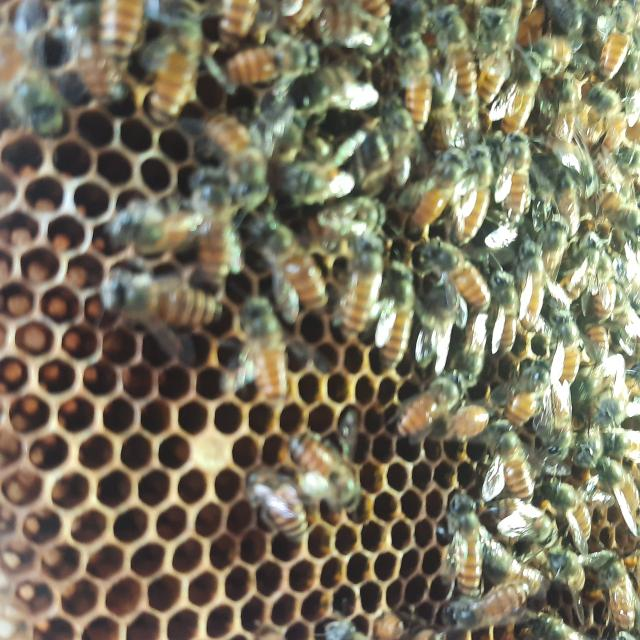honeybee: (114, 263, 222, 359), (402, 344, 499, 428), (184, 162, 267, 259), (197, 92, 293, 171), (426, 240, 516, 323), (244, 291, 323, 381), (231, 60, 370, 109), (494, 26, 556, 120), (387, 30, 456, 113), (571, 518, 629, 608), (285, 146, 355, 220), (85, 19, 182, 71), (477, 575, 565, 629), (325, 224, 377, 314), (588, 19, 640, 109), (569, 419, 625, 492), (261, 456, 314, 532), (152, 55, 220, 114), (518, 225, 562, 312), (473, 445, 545, 498), (573, 92, 625, 165), (434, 24, 477, 109), (295, 424, 355, 484), (227, 0, 308, 43), (334, 20, 404, 68), (518, 355, 564, 428), (379, 96, 415, 188), (426, 141, 464, 223), (578, 323, 618, 398), (103, 206, 169, 250), (477, 146, 507, 233), (518, 486, 573, 532), (580, 225, 624, 276), (471, 19, 514, 66), (518, 146, 550, 208), (424, 518, 466, 564)
